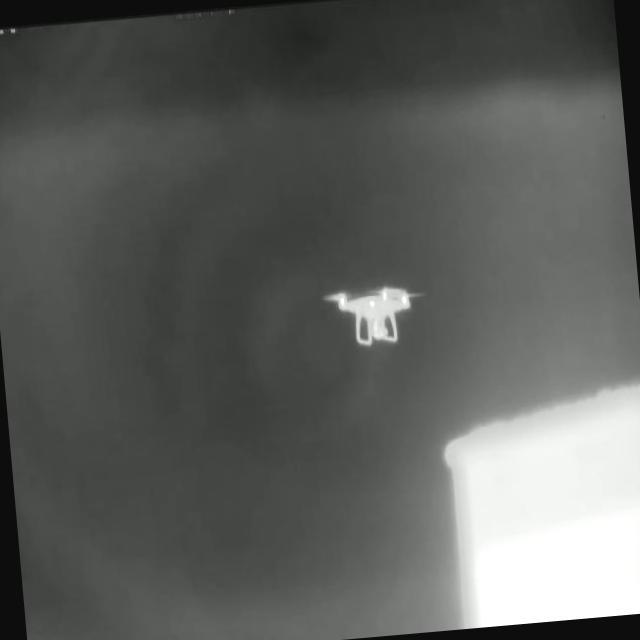DRONE: (318, 276, 427, 348)
